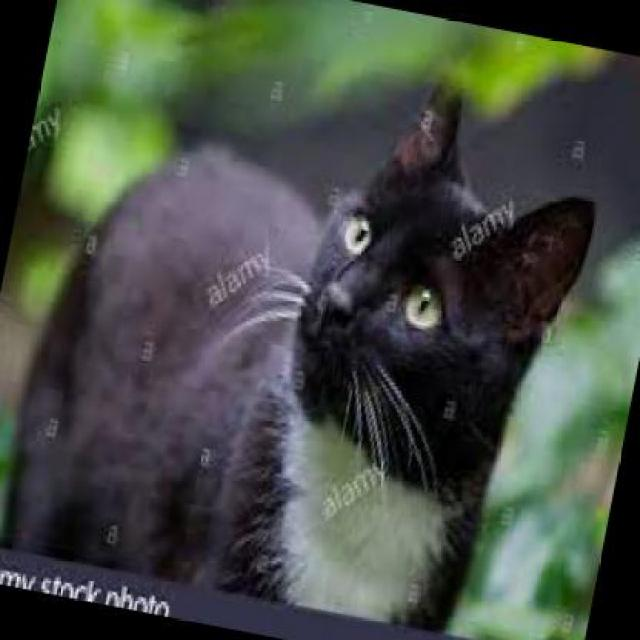animals: (0, 16, 629, 638)
